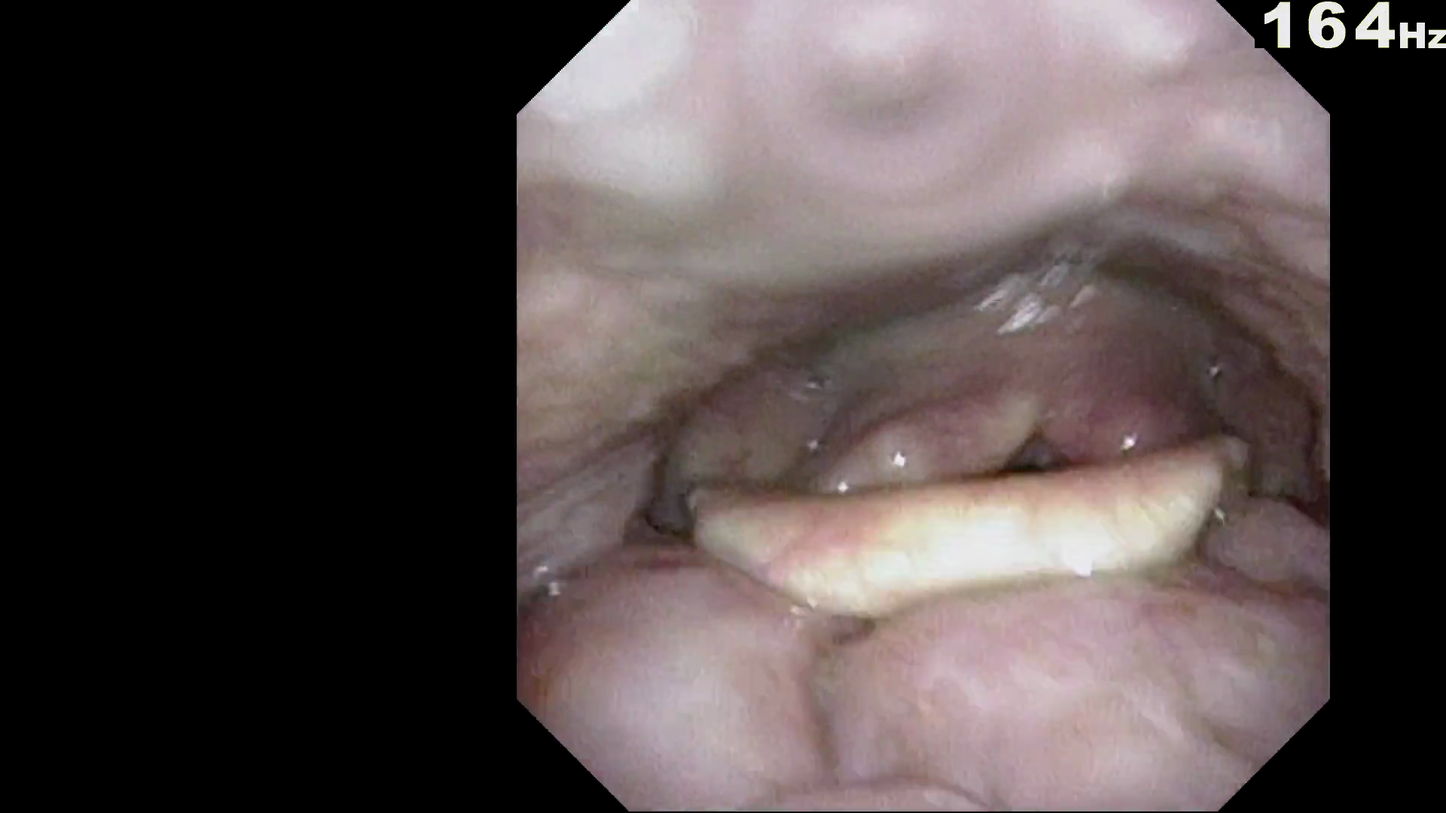epiglottis: (691, 420, 1175, 563)
